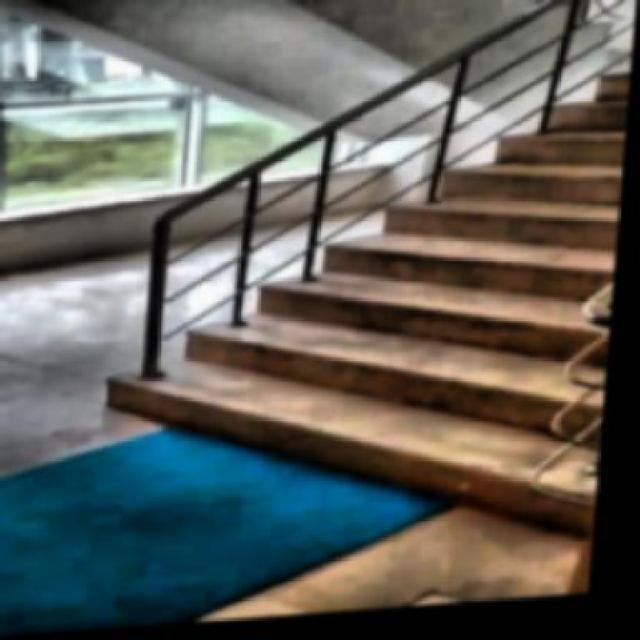stair: (70, 11, 636, 574)
